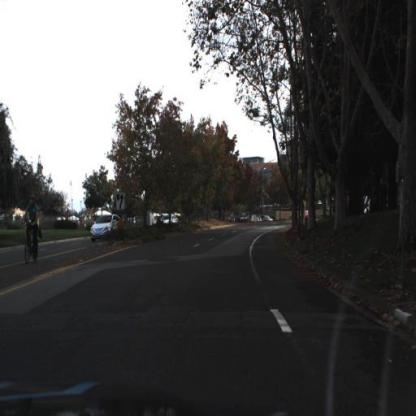biker: (22, 195, 43, 270)
car: (88, 211, 125, 243), (90, 211, 122, 244)
